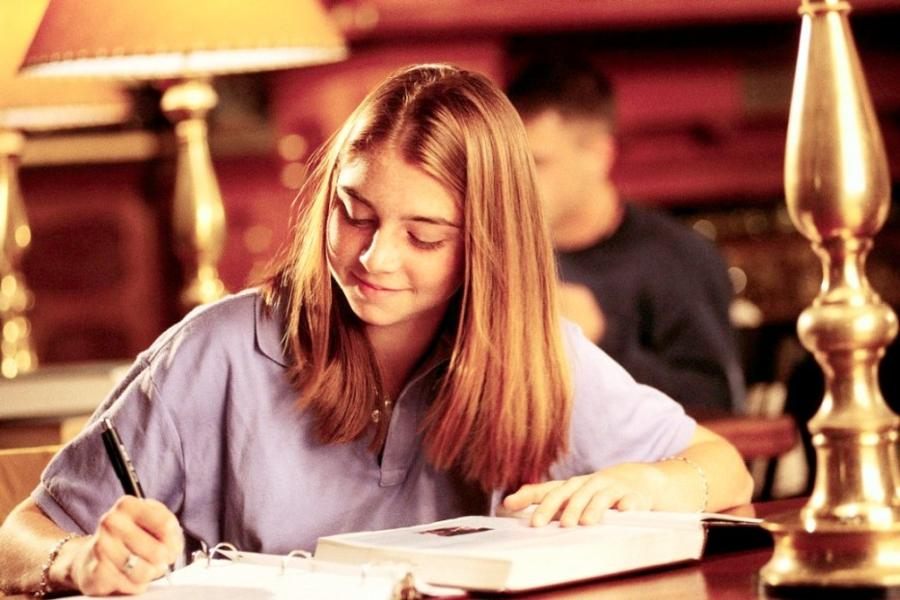person: (4, 63, 754, 594)
